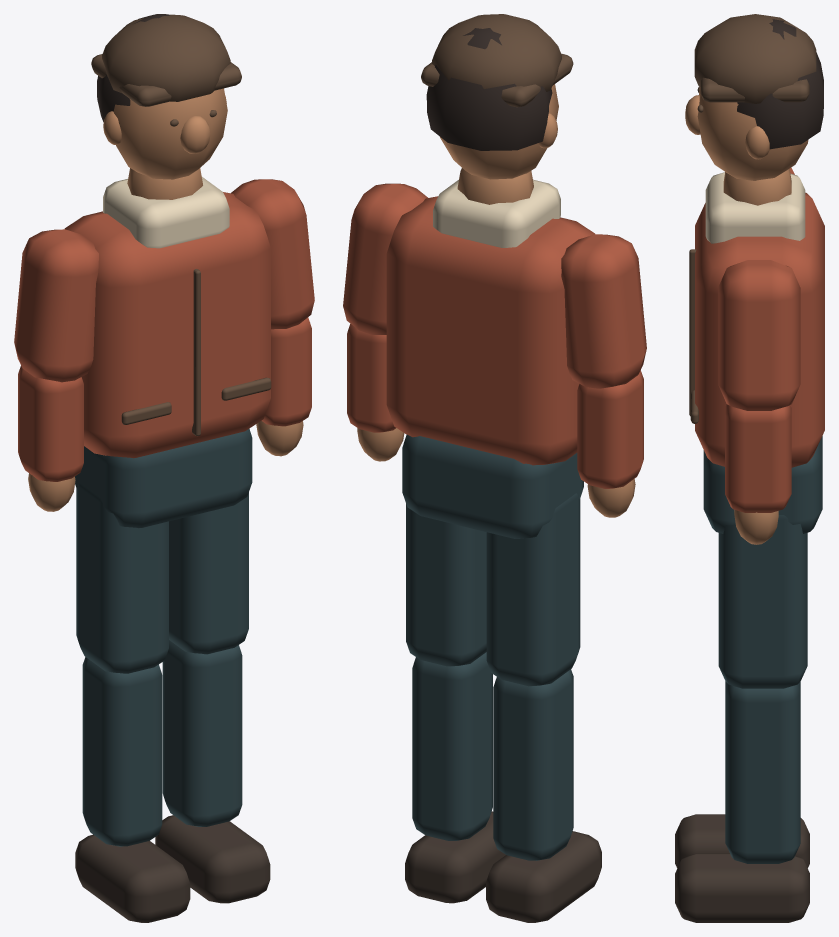
Rendered from harbor-pedestrian.glb.
3 renders of one model, left to right at view 1: azimuth 30°, elevation 25°; view 2: azimuth 150°, elevation 25°; view 3: azimuth 270°, elevation 25°, orthographic.
Visible parts, largest first — view 1: upper-body, left-thigh, left-knee, right-knee, Harbor pedestrian dock coat, right-thigh, left-shoulder, head, left-elbow, left-ankle, right-ankle, right-shoulder (+1 smaller); view 2: upper-body, left-thigh, left-knee, right-knee, Harbor pedestrian dock coat, right-thigh, left-shoulder, head, left-elbow, left-ankle, right-shoulder, right-ankle (+1 smaller); view 3: upper-body, right-thigh, right-knee, right-shoulder, head, right-ankle, right-elbow, Harbor pedestrian dock coat, left-ankle.
Boxes of the visible parts, bbox=[...] form: upper-body: bbox=[64, 14, 271, 458]; left-thigh: bbox=[76, 483, 168, 673]; left-knee: bbox=[82, 657, 162, 846]; right-knee: bbox=[162, 640, 242, 826]; Harbor pedestrian dock coat: bbox=[75, 428, 252, 528]; right-thigh: bbox=[169, 492, 248, 654]; left-shoulder: bbox=[14, 229, 98, 382]; head: bbox=[97, 14, 227, 179]; left-elbow: bbox=[18, 366, 83, 511]; left-ankle: bbox=[75, 834, 190, 922]; right-ankle: bbox=[155, 815, 270, 903]; right-shoulder: bbox=[231, 179, 314, 329]; upper-body: bbox=[386, 14, 594, 465]; left-thigh: bbox=[486, 493, 580, 686]; left-knee: bbox=[493, 669, 573, 860]; right-knee: bbox=[412, 652, 492, 840]; Harbor pedestrian dock coat: bbox=[402, 434, 583, 538]; right-thigh: bbox=[406, 503, 486, 666]; left-shoulder: bbox=[561, 234, 646, 388]; head: bbox=[426, 28, 558, 179]; left-elbow: bbox=[577, 370, 643, 517]; left-ankle: bbox=[486, 831, 601, 922]; right-shoulder: bbox=[343, 183, 427, 334]; right-ankle: bbox=[405, 811, 505, 903]; upper-body: bbox=[689, 14, 824, 467]; right-thigh: bbox=[718, 515, 807, 688]; right-knee: bbox=[725, 682, 800, 863]; right-shoulder: bbox=[718, 260, 800, 410]; head: bbox=[685, 19, 823, 180]; right-ankle: bbox=[675, 853, 809, 922]; right-elbow: bbox=[725, 404, 791, 544]; Harbor pedestrian dock coat: bbox=[703, 436, 822, 533]; left-ankle: bbox=[675, 814, 809, 868].
Bounding box in the file's own units: 0.6083 × 1.78 × 0.2765.
